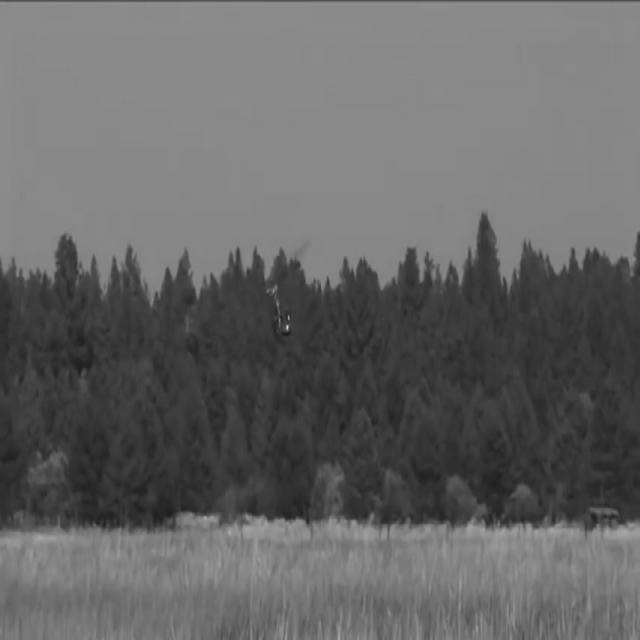helikopter: (248, 266, 314, 362)
